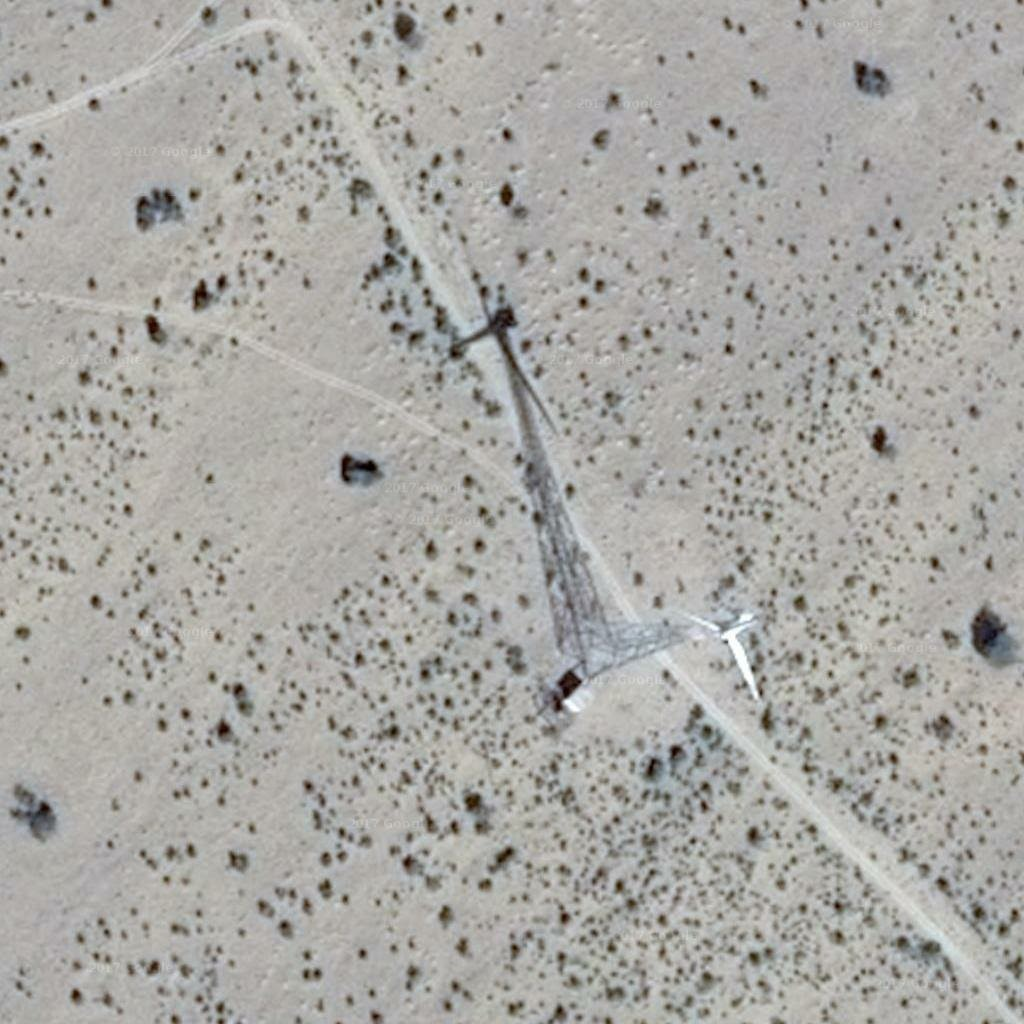Windmill: (454, 258, 619, 637)
